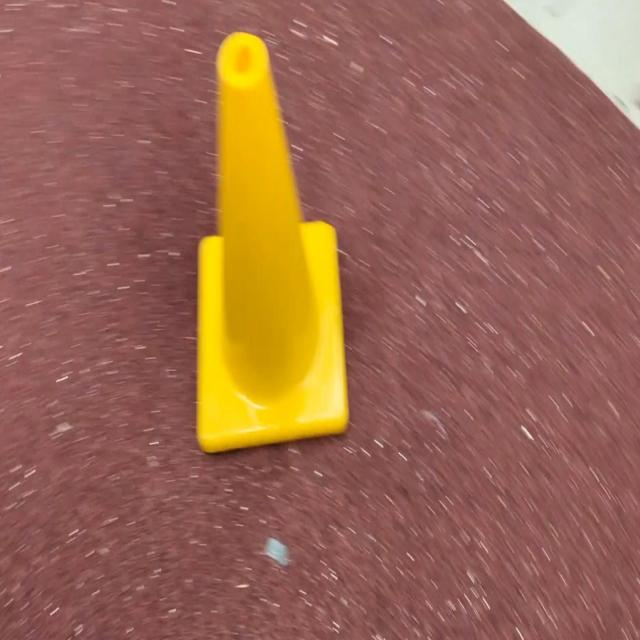frc_cone: (190, 34, 352, 446)
